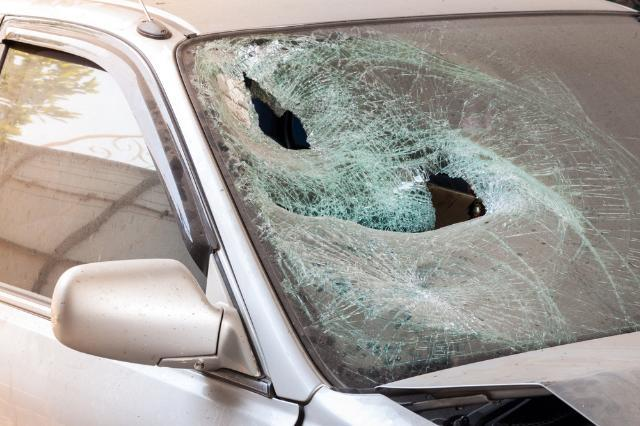glass shatter: (184, 14, 640, 389)
